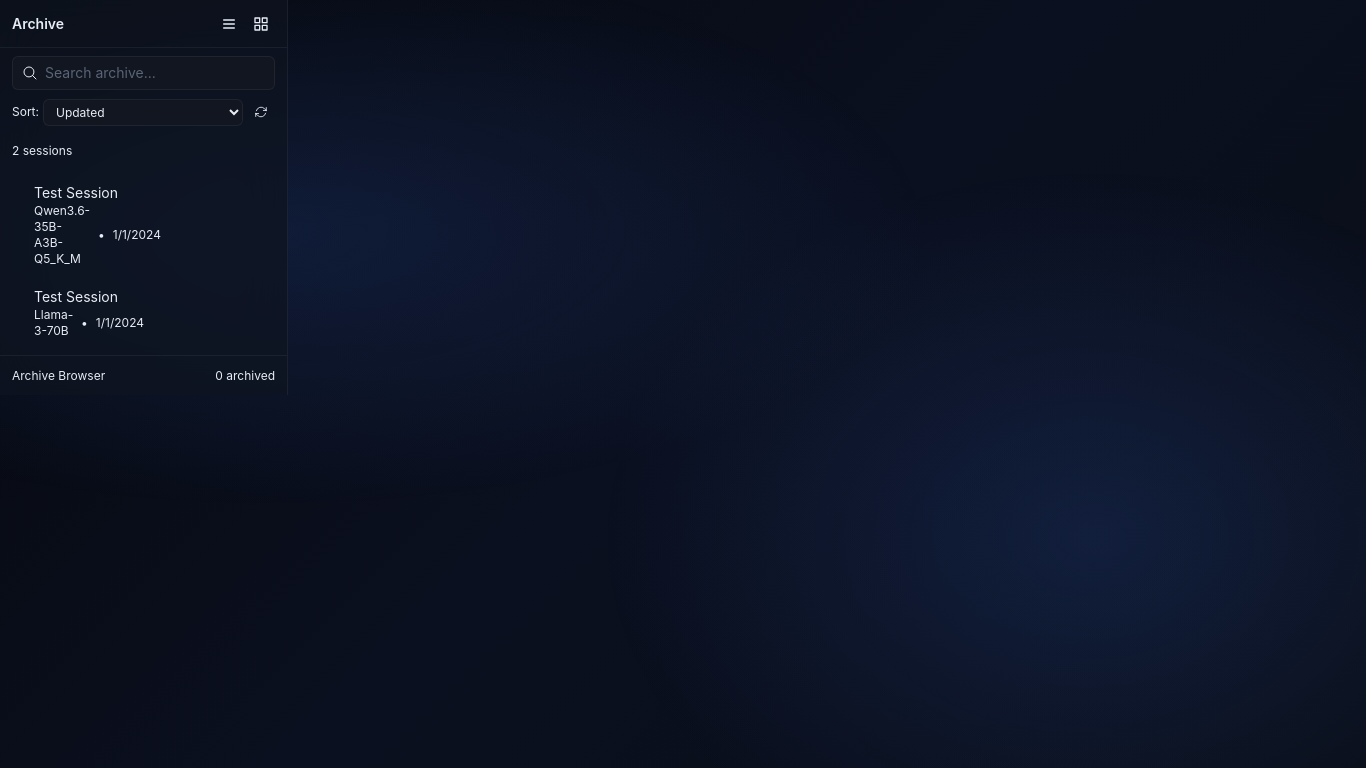
Test: ArchiveBrowser › search › filters sessions by model
This screenshot has width=1366, height=768.
Type "llama" into the field with placeholder "Search archive..." at x=144, y=73, box [12,56,275,90]
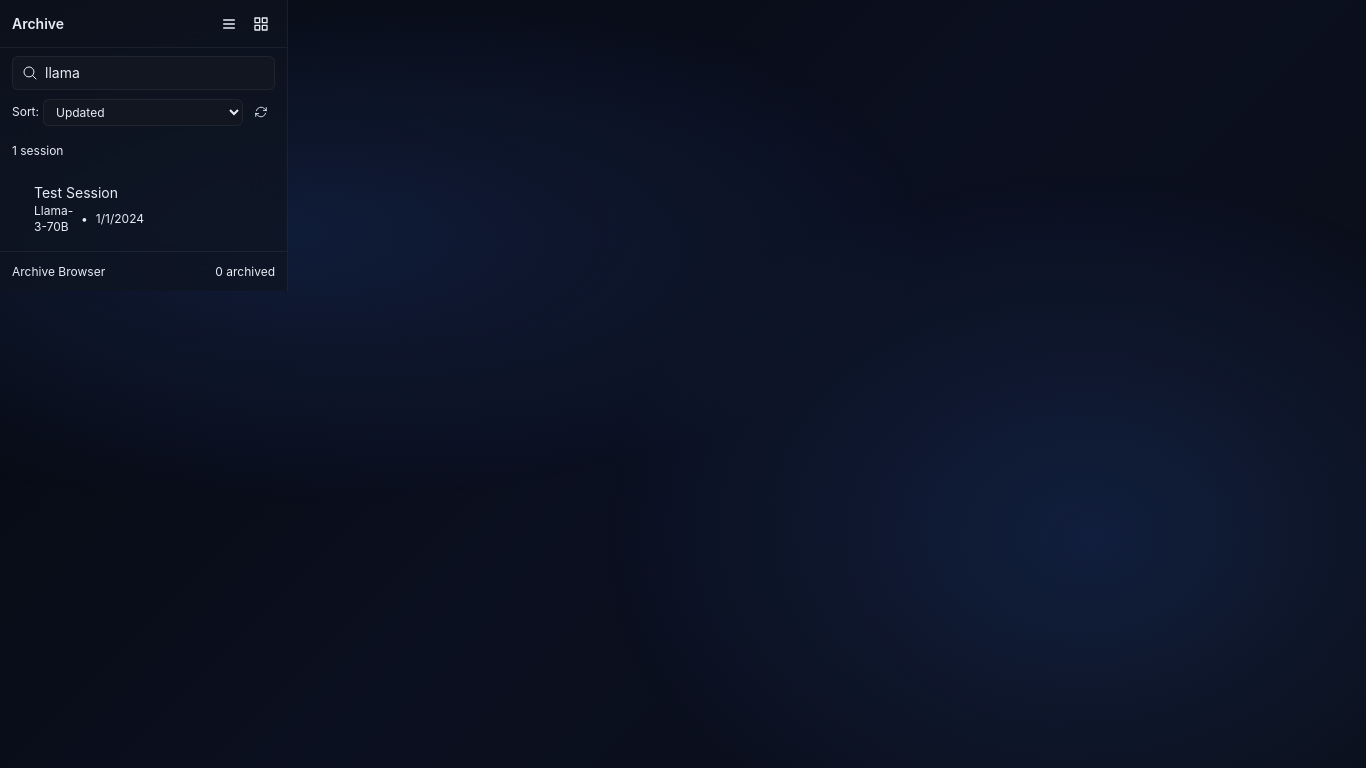
Expected: the text "Llama-3-70B" is shown, [34,203,73,235]
Expected: the text "Qwen3.6-35B-A3B-Q5_K_M" is gone
